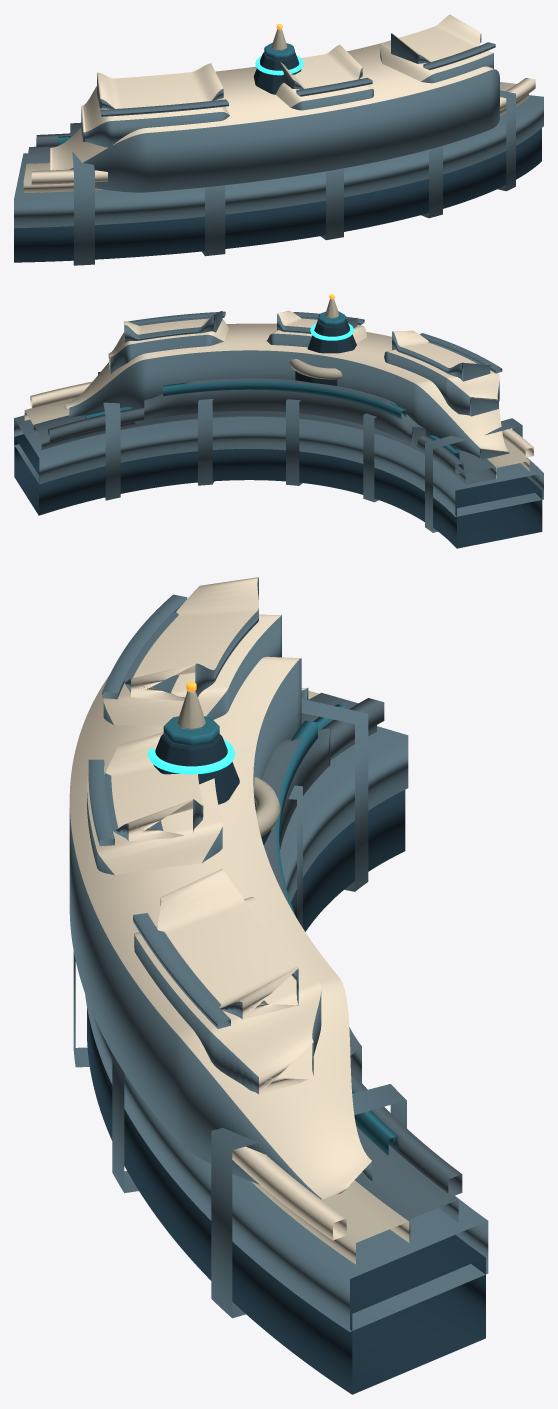
The model's file is auto_explore.glb.
3 renders of one model, top to bottom at view 1: azimuth 30°, elevation 25°; view 2: azimuth 150°, elevation 25°; view 3: azimuth 270°, elevation 25°, orthographic. The views are drawn at different scales.
Visible parts, largest first — view 1: Curved inhabited main pressure body, Upper crescent deep pressure keel.001, Upper crescent slate flank.001, Inset faceted habitation roof plate, Stepped inhabited roof bay, Inset faceted habitation roof plate.002, Crescent radial compression rib.003, Inset faceted habitation roof plate.001, Stepped inhabited roof bay.002, Stepped inhabited roof bay.001, Crescent radial compression rib.004, Crescent radial compression rib.005 (+11 smaller); view 2: Curved inhabited main pressure body, Upper crescent deep pressure keel.001, Upper crescent slate flank.001, Curved inner observation gallery, Stepped inhabited roof bay, Upper crescent recessed pressure gallery.001, Curved continuous observation glazing, Inset faceted habitation roof plate, Stepped inhabited roof bay.002, Inboard dark pressure gallery.001, Inset faceted habitation roof plate.002, Crescent radial compression rib.007 (+12 smaller); view 3: Curved inhabited main pressure body, Upper crescent deep pressure keel.001, Upper crescent slate flank.001, Inset faceted habitation roof plate.002, Stepped inhabited roof bay.002, Inset faceted habitation roof plate, Inset faceted habitation roof plate.001, Stepped inhabited roof bay, Stepped inhabited roof bay.001, Crescent radial compression rib.007, Upper crescent recessed pressure gallery.001, Curved inner observation gallery (+14 smaller).
Boxes of the visible parts, box(x1,y1,x2,y2) form: Curved inhabited main pressure body: box(49, 40, 499, 192); Upper crescent deep pressure keel.001: box(14, 128, 541, 262); Upper crescent slate flank.001: box(14, 95, 543, 228); Inset faceted habitation roof plate: box(97, 63, 223, 109); Stepped inhabited roof bay: box(81, 86, 229, 147); Inset faceted habitation roof plate.002: box(391, 14, 481, 63); Crescent radial compression rib.003: box(70, 122, 94, 265); Inset faceted habitation roof plate.001: box(280, 44, 362, 89); Stepped inhabited roof bay.002: box(380, 40, 493, 83); Stepped inhabited roof bay.001: box(275, 83, 373, 110); Crescent radial compression rib.004: box(202, 185, 225, 256); Crescent radial compression rib.005: box(320, 168, 343, 240); Curved inhabited main pressure body: box(64, 323, 509, 459); Upper crescent deep pressure keel.001: box(14, 434, 542, 548); Upper crescent slate flank.001: box(14, 415, 543, 516); Curved inner observation gallery: box(144, 378, 425, 446); Stepped inhabited roof bay: box(384, 349, 499, 416); Upper crescent recessed pressure gallery.001: box(33, 414, 495, 484); Curved continuous observation glazing: box(163, 381, 406, 419); Inset faceted habitation roof plate: box(392, 330, 490, 381); Stepped inhabited roof bay.002: box(108, 319, 228, 373); Inboard dark pressure gallery.001: box(48, 408, 463, 474); Inset faceted habitation roof plate.002: box(124, 311, 222, 343); Crescent radial compression rib.007: box(98, 372, 120, 500); Curved inhabited main pressure body: box(69, 656, 372, 1199); Upper crescent deep pressure keel.001: box(87, 790, 485, 1394); Upper crescent slate flank.001: box(85, 726, 488, 1331); Inset faceted habitation roof plate.002: box(157, 868, 298, 1019); Stepped inhabited roof bay.002: box(134, 897, 321, 1094); Inset faceted habitation roof plate: box(124, 577, 258, 700); Inset faceted habitation roof plate.001: box(104, 732, 203, 840); Stepped inhabited roof bay: box(103, 614, 281, 725); Stepped inhabited roof bay.001: box(87, 772, 222, 875); Crescent radial compression rib.007: box(211, 1084, 406, 1318); Upper crescent recessed pressure gallery.001: box(301, 692, 458, 1241); Curved inner observation gallery: box(262, 728, 361, 1082).
Size of the model in its own units: 6.79 by 2.84 by 2.44.
